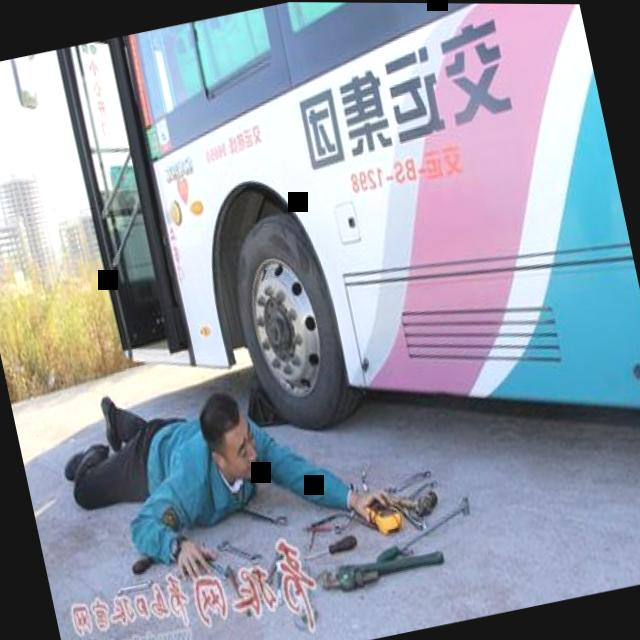Fall-Detected: (31, 302, 445, 611)
